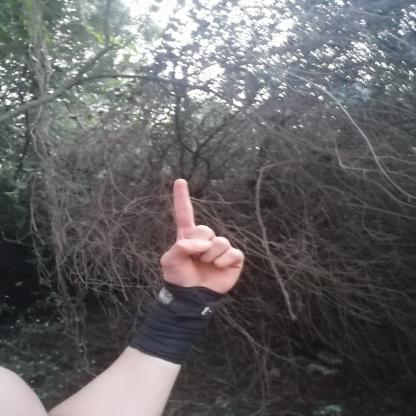BAA: (143, 167, 253, 302)
